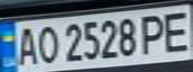2: (60, 19, 84, 63), (100, 16, 121, 60)
5: (78, 18, 103, 62)
8: (115, 15, 142, 57)
A: (12, 24, 39, 67)
E: (157, 7, 193, 54)
O: (33, 22, 60, 65)
P: (136, 11, 172, 56)
